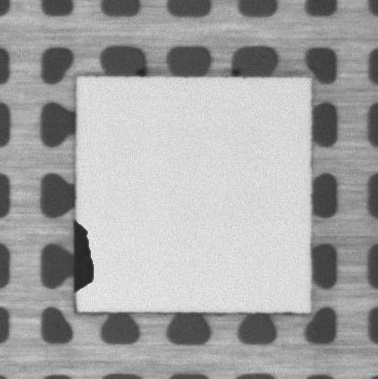DIE_BROKEN: (71, 222, 96, 293)
